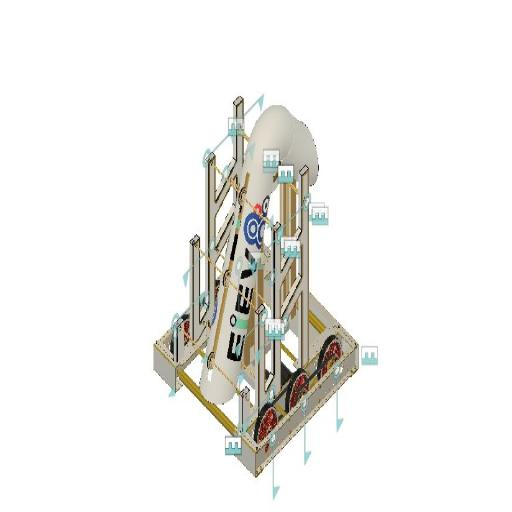robot: (145, 93, 360, 466)
